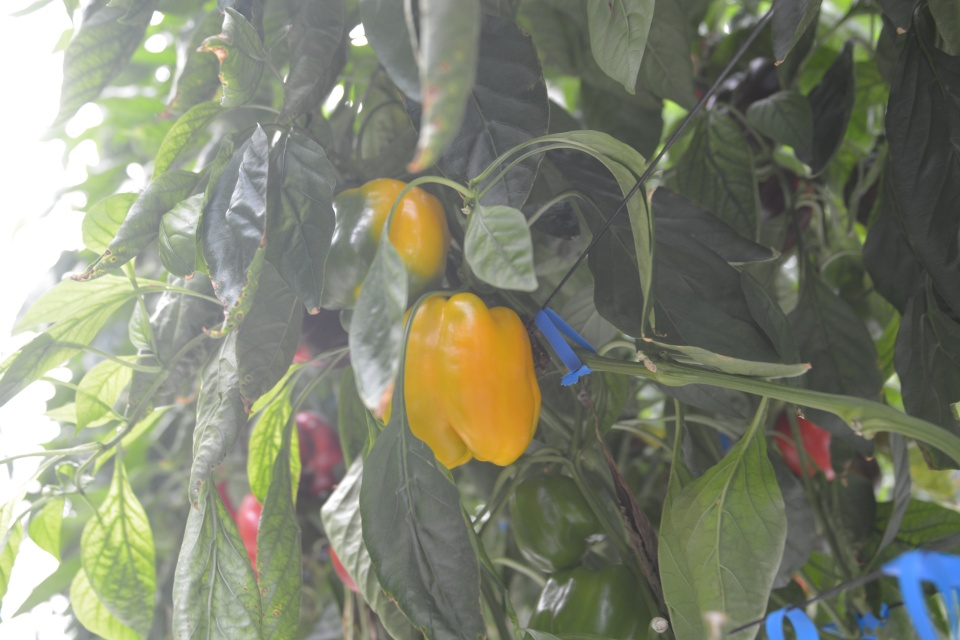fruit: (379, 293, 543, 469), (320, 176, 451, 336), (522, 564, 660, 640), (508, 475, 609, 570), (776, 408, 840, 482), (296, 412, 344, 497), (291, 308, 352, 368), (235, 495, 272, 578)
